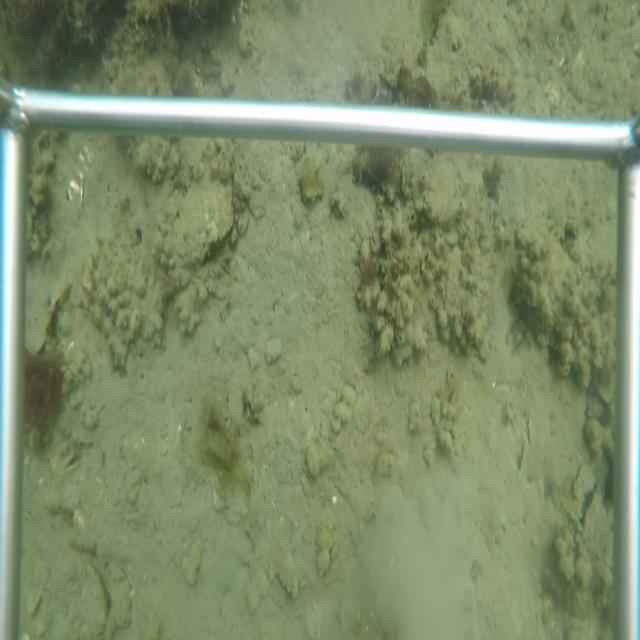Oyster-Indeterminate: (162, 167, 235, 266), (77, 559, 110, 625)
